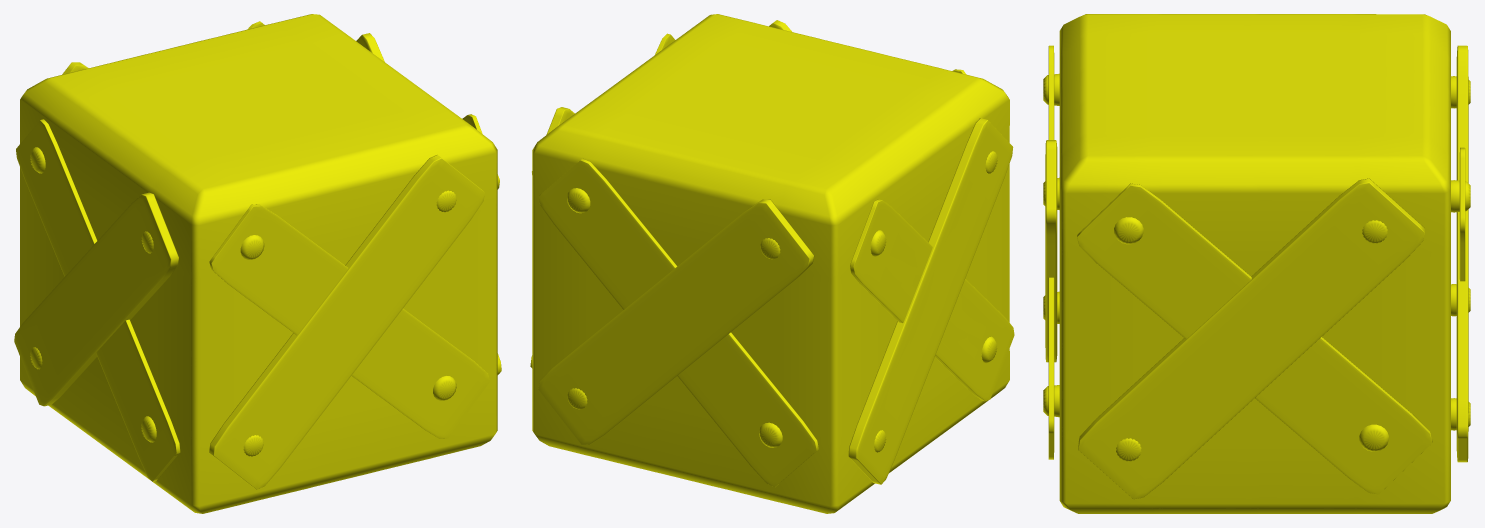
Rendered from Game2Box.fbx.
The picture shows the model from 3 angles, left to right: view 1: azimuth 30°, elevation 25°; view 2: azimuth 150°, elevation 25°; view 3: azimuth 270°, elevation 25°; orthographic projection. The views are drawn at different scales.
Visible parts, largest first — view 1: Box; view 2: Box; view 3: Box.
Boxes of the visible parts, x1,y1,x2,y2 form: Box: (14, 14, 501, 513); Box: (530, 14, 1014, 513); Box: (1043, 14, 1470, 513).
Bounding box in the file's own units: 2.04 × 1.88 × 2.05.
